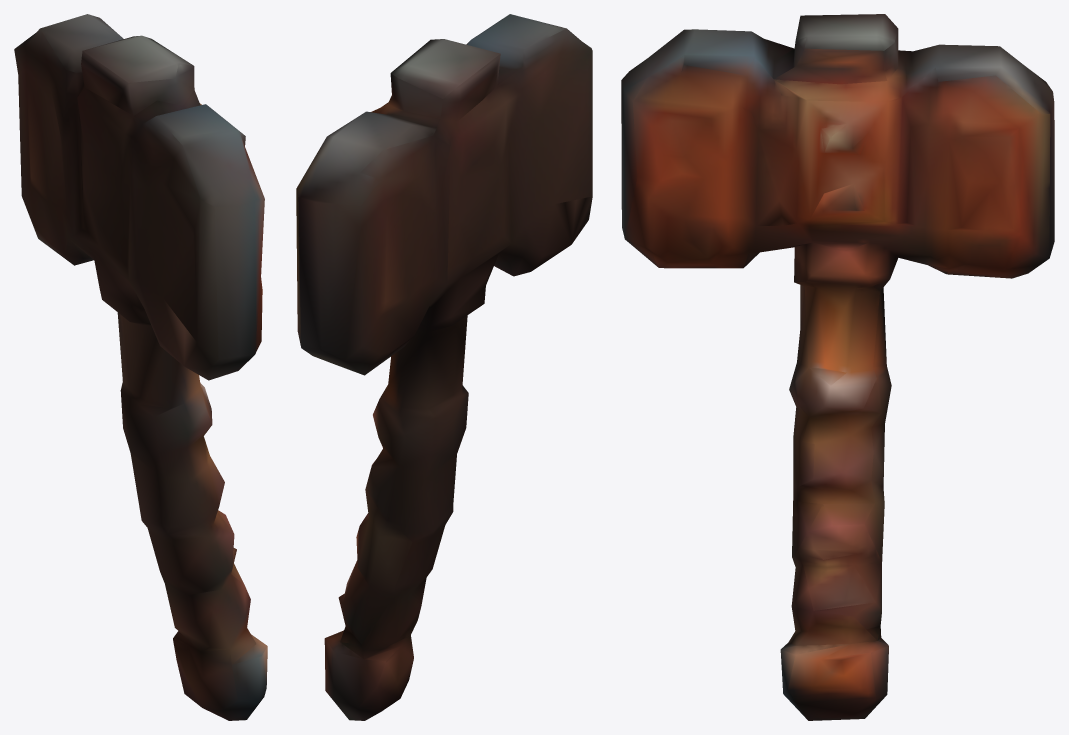
Rendered from mace_2h_copper.glb.
3 renders of one model, left to right at view 1: azimuth 30°, elevation 25°; view 2: azimuth 150°, elevation 25°; view 3: azimuth 270°, elevation 25°, orthographic. The views are drawn at different scales.
Parts seen in each view (by area): view 1: model; view 2: model; view 3: model.
Part boxes in pixels (bbox=[...]): model: bbox=[14, 14, 267, 720]; model: bbox=[296, 14, 592, 720]; model: bbox=[621, 14, 1054, 720].
Bounding box in the file's own units: 0.3301 × 1.4 × 0.8409.
Materials: 1 (1 with a texture image).
